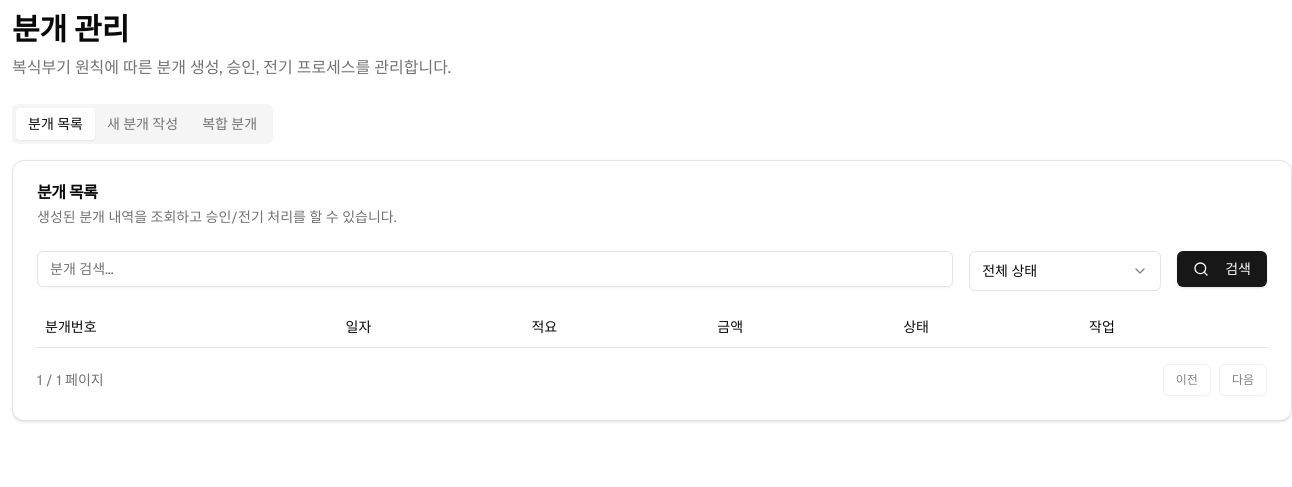
Test: Journal Entry Management UI (TDD) › 분개 목록 및 검색 › should search journal entries by description
Type "테스트" into the field with placeholder "분개 검색..." at (495, 269), box [37,251,953,287]
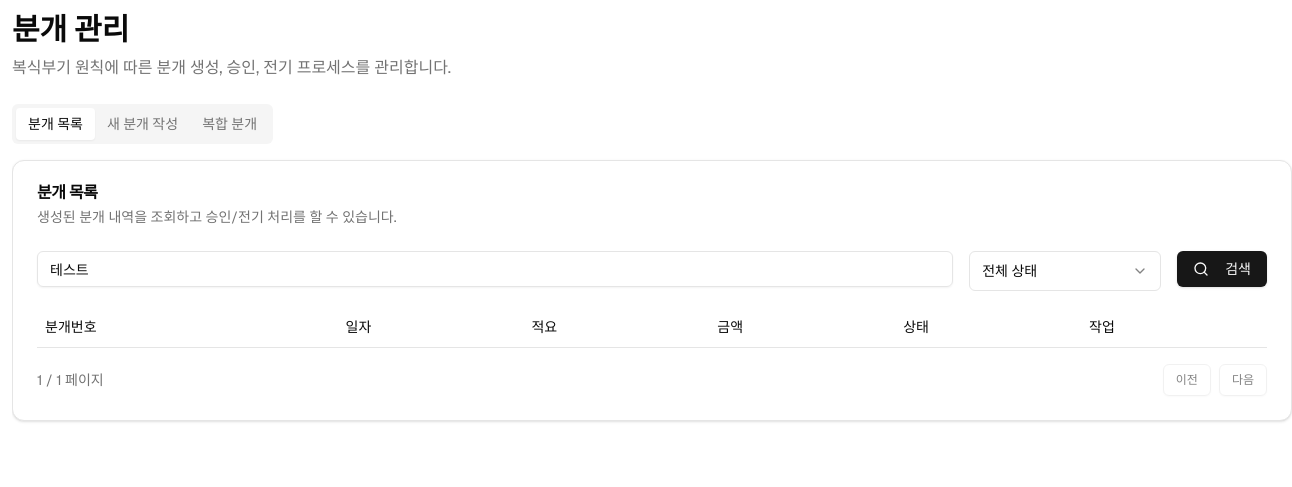
Click the button "검색" at (1222, 269), box [1177,251,1267,287]
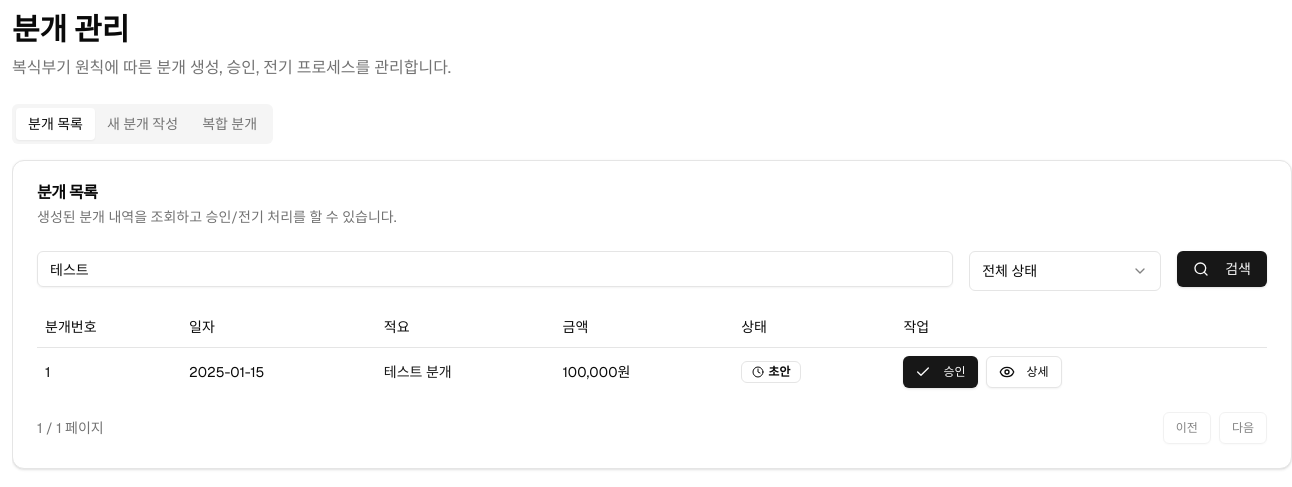
Now the button "테스트 분개" is shown, box [384,362,452,382]
